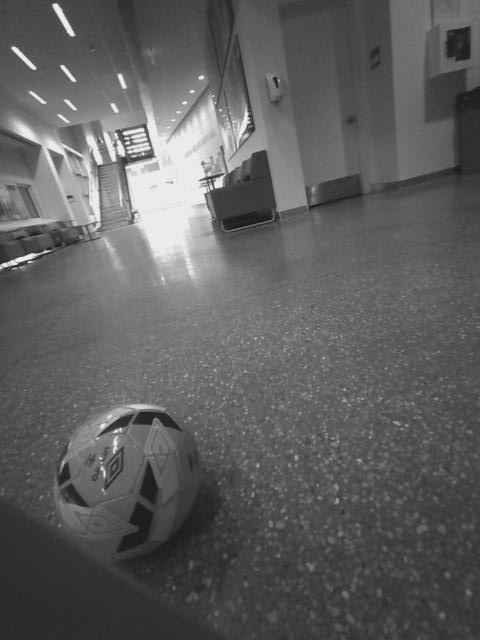ball: (45, 403, 209, 562)
